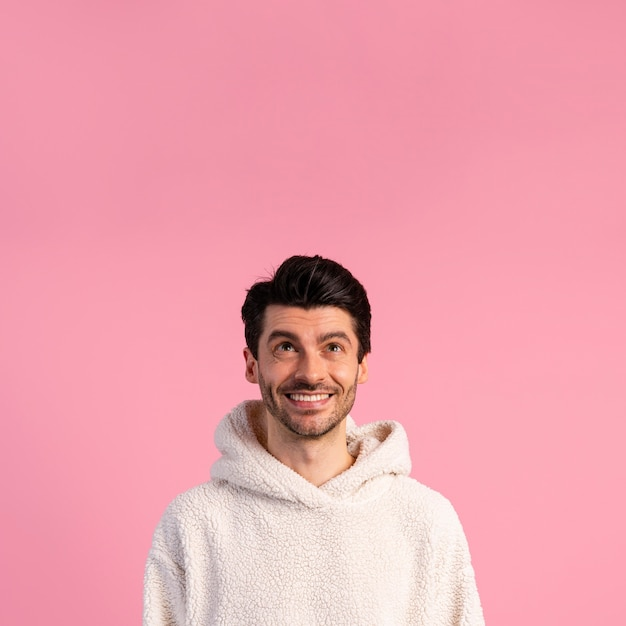young: (237, 236, 380, 466)
